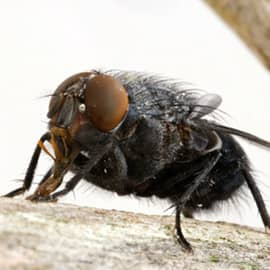phorid fly: (6, 65, 270, 250)
